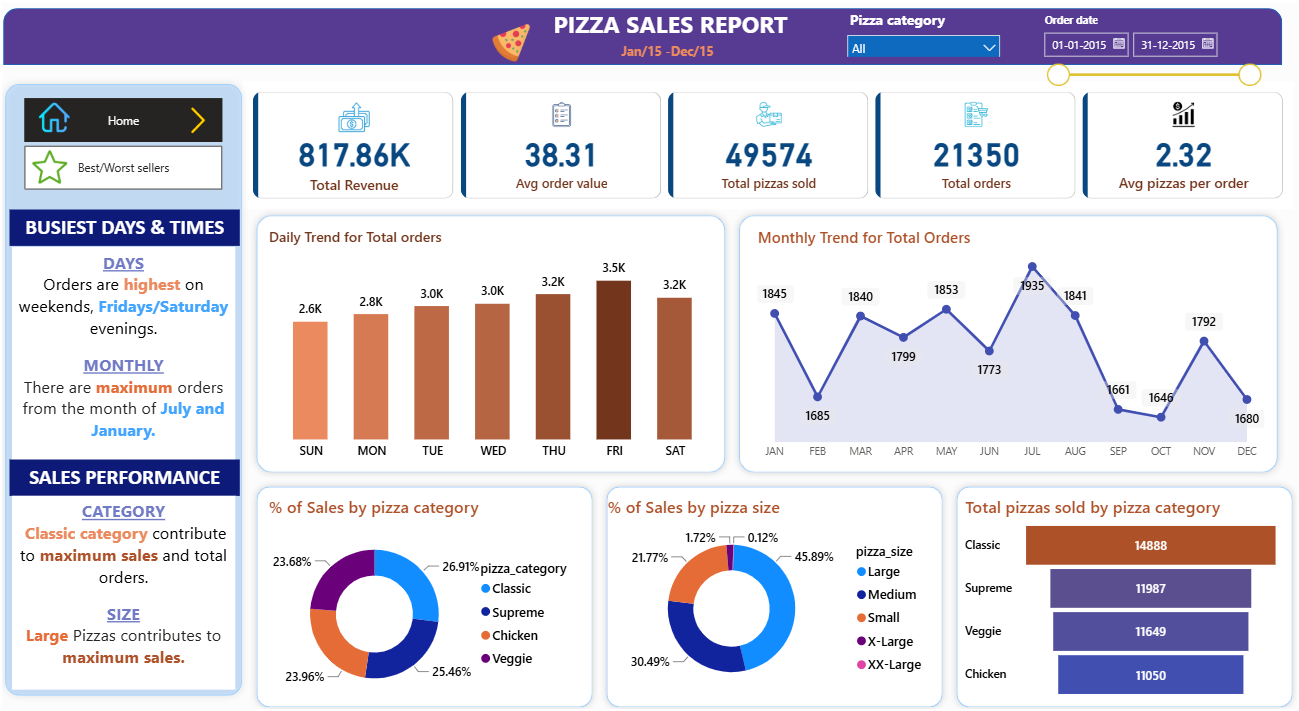

Layout of this report page (visuals, bound fields, positions):
{"tool":"powerbi","page":{"name":"Home","canvas":[1500,820],"ordinal":0},"visuals":[{"type":"cardVisual","fields":{"Data":["pizza_sales_csv.Total Revenue","pizza_sales_csv.Avg order value","pizza_sales_csv.Total pizzas sold","pizza_sales_csv.Total orders","pizza_sales_csv.Avg pizzas per order"]},"box":[286.7,91.7,1213.3,156.7],"z":0},{"type":"shape","box":[18.3,13.3,1461.7,65],"z":1000},{"type":"textbox","box":[600,7.5,362.5,45],"z":2000},{"type":"textbox","box":[688.3,46.7,178.3,38.3],"z":3000},{"type":"image","box":[561.7,30,75,45],"z":4000},{"type":"shape","box":[300,241.7,551.7,310],"z":5000},{"type":"columnChart","title":"Daily Trend for Total orders","fields":{"Category":["pizza_sales_csv.Order day"],"Y":["pizza_sales_csv.Total orders"]},"box":[316.7,263.3,523.3,275],"z":6000},{"type":"shape","box":[851.7,241.7,631.7,310],"z":7000},{"type":"areaChart","title":"Monthly Trend for Total Orders","fields":{"Y":["pizza_sales_csv.Total orders"],"Category":["pizza_sales_csv.Order daMonth"]},"box":[875,262.5,589.1,275],"z":8000},{"type":"shape","box":[300,551.7,400,268.3],"z":9000},{"type":"shape","box":[700,551.7,400,268.3],"z":10000},{"type":"shape","box":[1100,551.7,400,268.3],"z":11000},{"type":"donutChart","title":"% of Sales by pizza category","fields":{"Category":["pizza_sales_csv.pizza_category"],"Y":["pizza_sales_csv.Total Revenue"]},"box":[316.7,570,371.7,250],"z":12000},{"type":"donutChart","title":"% of Sales by pizza size","fields":{"Y":["pizza_sales_csv.Total Revenue"],"Category":["pizza_sales_csv.pizza_size"]},"box":[705,570,381.7,233.3],"z":13000},{"type":"funnel","title":"Total pizzas sold by pizza category","fields":{"Y":["pizza_sales_csv.Total pizzas sold"],"Category":["pizza_sales_csv.pizza_category"]},"box":[1113.3,570,370,236.7],"z":14000},{"type":"shape","box":[13.3,91.7,286.7,715],"z":15000},{"type":"textbox","box":[25,243.3,263.3,41.7],"z":16000},{"type":"textbox","box":[28.3,285,255,253.3],"z":17000},{"type":"textbox","box":[25,528.3,263.3,41.7],"z":18000},{"type":"textbox","box":[28.3,570,255,221.7],"z":19000},{"type":"slicer","fields":{"Values":["pizza_sales_csv.pizza_category"]},"box":[973.3,10,195,58.3],"z":20000},{"type":"slicer","fields":{"Values":["pizza_sales_csv.order_date"]},"box":[1195,13.3,268.3,91.7],"z":21000},{"type":"pageNavigator","box":[43.3,115,226.7,50],"z":21001},{"type":"pageNavigator","box":[43.3,170,226.7,50],"z":21002},{"type":"image","box":[213.3,125,56.7,30],"z":21003},{"type":"image","box":[58.3,120,36.7,35],"z":21004},{"type":"image","box":[35,175,71.7,40],"z":21005}]}

Visuals, with their boxes in screenshot pixels (x1, y1, x2, y2), scaled from the page's 1500x820 canvas onto the 1299x711 screenshot:
cardVisual - pizza_sales_csv.Total Revenue x pizza_sales_csv.Avg order value: box=[248, 80, 1298, 215]
shape: box=[16, 12, 1282, 68]
textbox: box=[520, 7, 834, 46]
textbox: box=[596, 40, 750, 74]
image: box=[486, 26, 551, 65]
shape: box=[260, 210, 738, 478]
"Daily Trend for Total orders" columnChart: box=[274, 228, 727, 467]
shape: box=[738, 210, 1285, 478]
"Monthly Trend for Total Orders" areaChart: box=[758, 228, 1268, 466]
shape: box=[260, 478, 606, 710]
shape: box=[606, 478, 953, 710]
shape: box=[953, 478, 1298, 710]
"% of Sales by pizza category" donutChart: box=[274, 494, 596, 710]
"% of Sales by pizza size" donutChart: box=[611, 494, 941, 697]
"Total pizzas sold by pizza category" funnel: box=[964, 494, 1285, 699]
shape: box=[12, 80, 260, 699]
textbox: box=[22, 211, 250, 247]
textbox: box=[25, 247, 245, 467]
textbox: box=[22, 458, 250, 494]
textbox: box=[25, 494, 245, 686]
slicer - pizza_sales_csv.pizza_category: box=[843, 9, 1012, 59]
slicer - pizza_sales_csv.order_date: box=[1035, 12, 1267, 91]
pageNavigator: box=[37, 100, 234, 143]
pageNavigator: box=[37, 147, 234, 191]
image: box=[185, 108, 234, 134]
image: box=[50, 104, 82, 134]
image: box=[30, 152, 92, 186]
